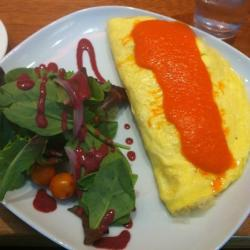omelette: (109, 12, 248, 214)
salad: (2, 67, 136, 231)
